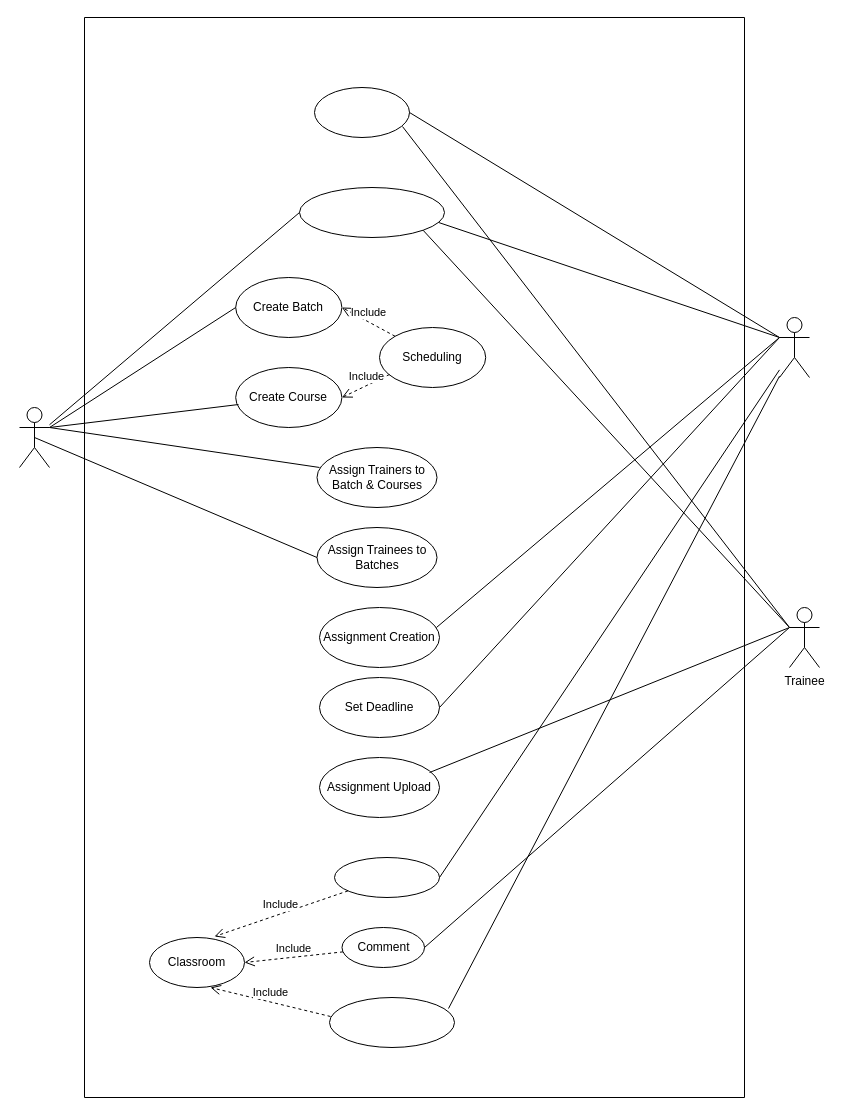
Image size: 842x1115. Some labels were removed from this diagram. The centre of each missing label's shape, as x and y in pixels:
"Admin" goes at [34,437].
"Give Notice" goes at [391,1022].
"Login" goes at [371,212].
"Register" goes at [362,112].
"Trainer" goes at [794,347].
"Upload Post" goes at [387,877].
